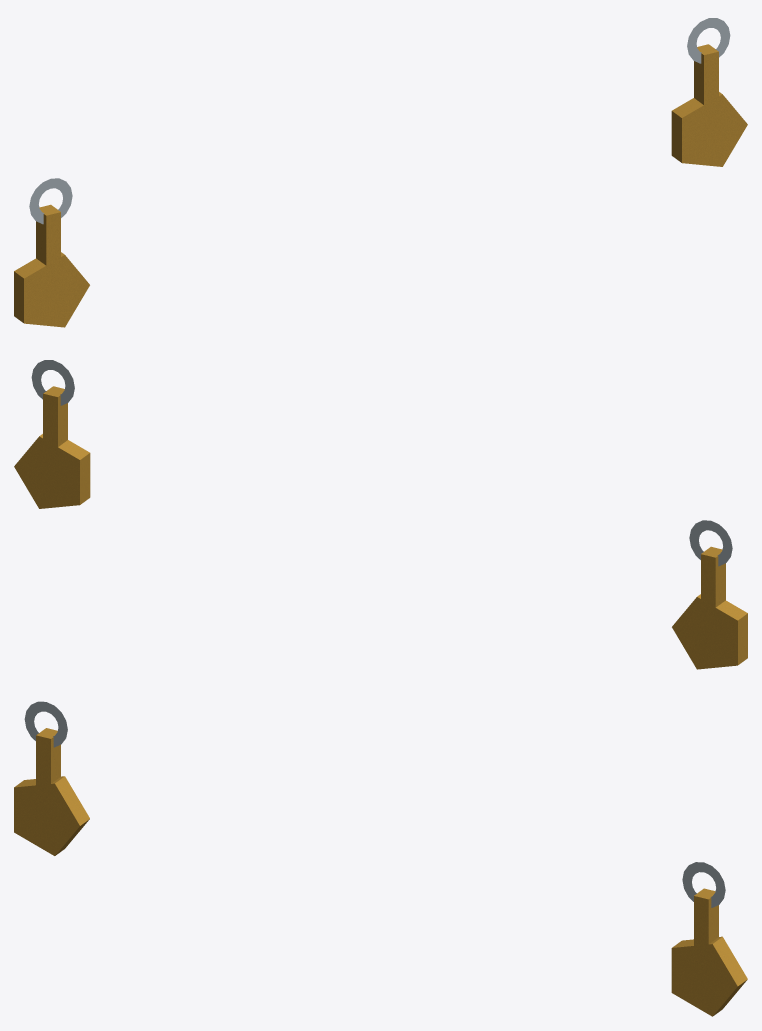
The model's file is reference_dangling_earrings.gltf.
The picture shows the model from 3 angles, top to bottom: view 1: azimuth 30°, elevation 25°; view 2: azimuth 150°, elevation 25°; view 3: azimuth 330°, elevation 25°; orthographic projection.
Visible parts, largest first — view 1: Dangling Earrings; view 2: Dangling Earrings; view 3: Dangling Earrings.
Part boxes in pixels (x1=…): Dangling Earrings: x1=14, y1=18, x2=747, y2=327; Dangling Earrings: x1=14, y1=360, x2=747, y2=669; Dangling Earrings: x1=14, y1=701, x2=747, y2=1016.
Size of the model in its own units: 0.5348 by 0.1057 by 0.013.
Materials: 2 (2 with a texture image).
